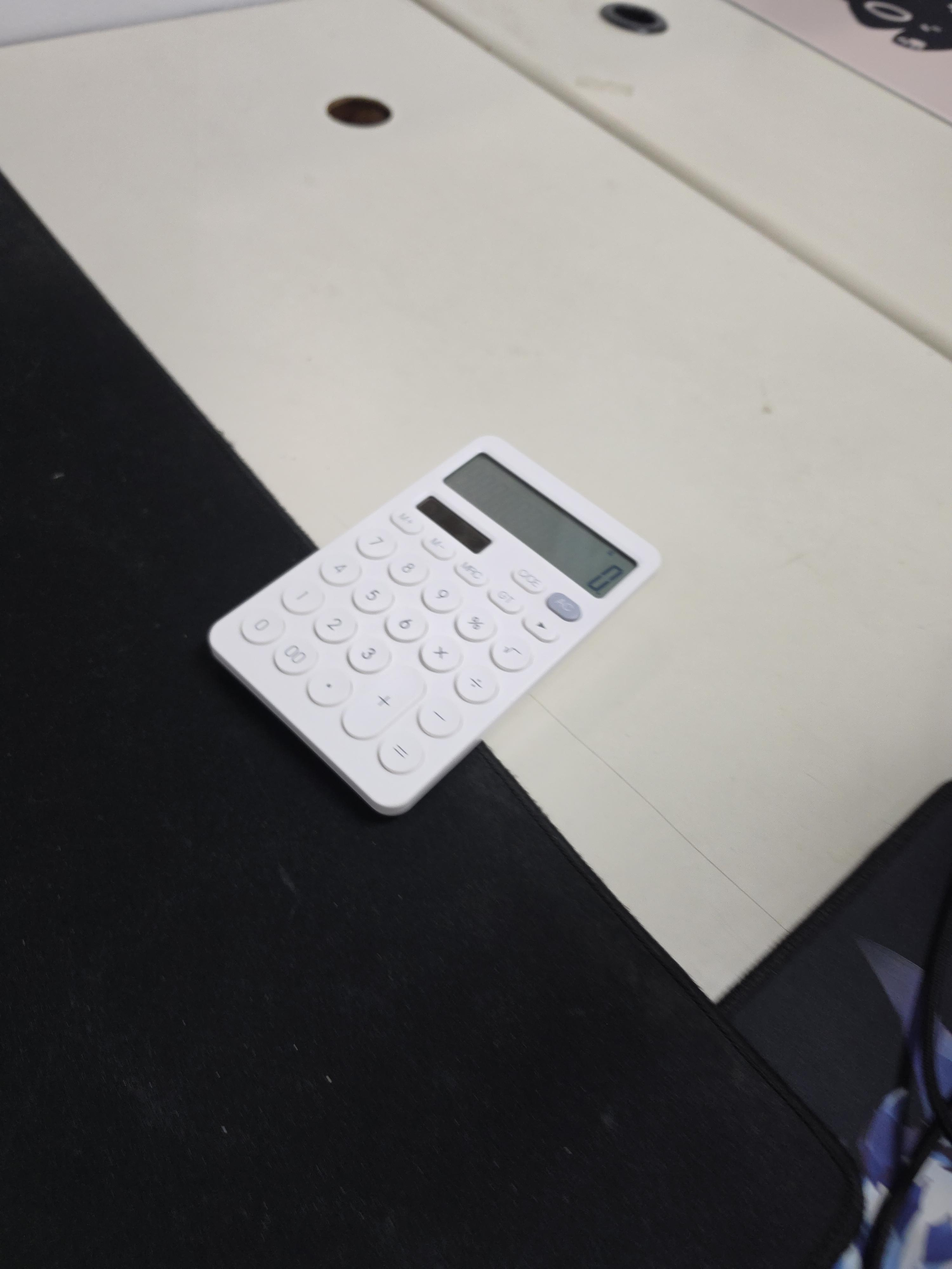calculator: (208, 436, 661, 817)
